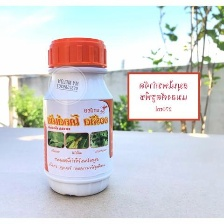insecticide: (40, 34, 116, 201)
